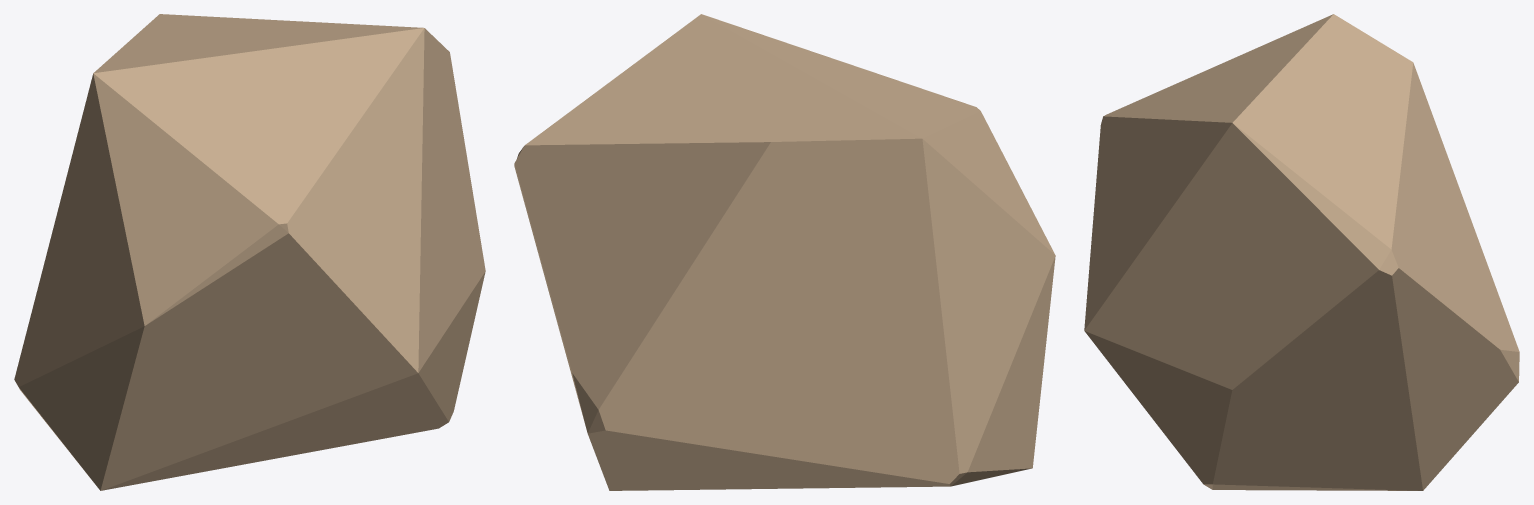
File: throwable_rock_01.fbx
3 views of the same model, side by side, from view 1: azimuth 30°, elevation 25°; view 2: azimuth 150°, elevation 25°; view 3: azimuth 270°, elevation 25° (orthographic). The views are drawn at different scales.
Parts seen in each view (by area): view 1: throwable_rock_01; view 2: throwable_rock_01; view 3: throwable_rock_01.
Boxes of the visible parts, <box> form: throwable_rock_01: <box>14,14,485,490</box>; throwable_rock_01: <box>514,14,1055,490</box>; throwable_rock_01: <box>1084,14,1519,490</box>.
Bounding box in the file's own units: 10 × 8.7 × 9.21.
